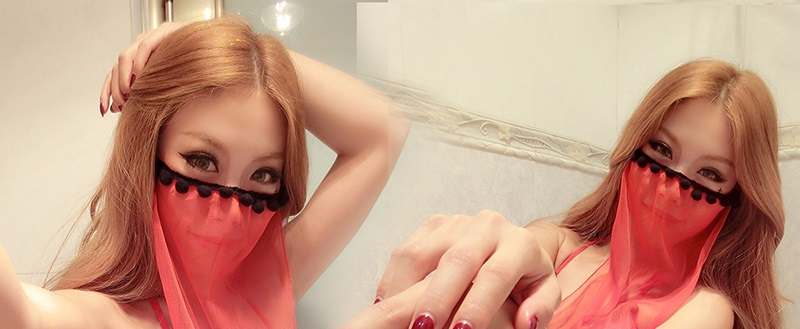face_mask: (156, 98, 281, 271), (630, 130, 740, 252)
